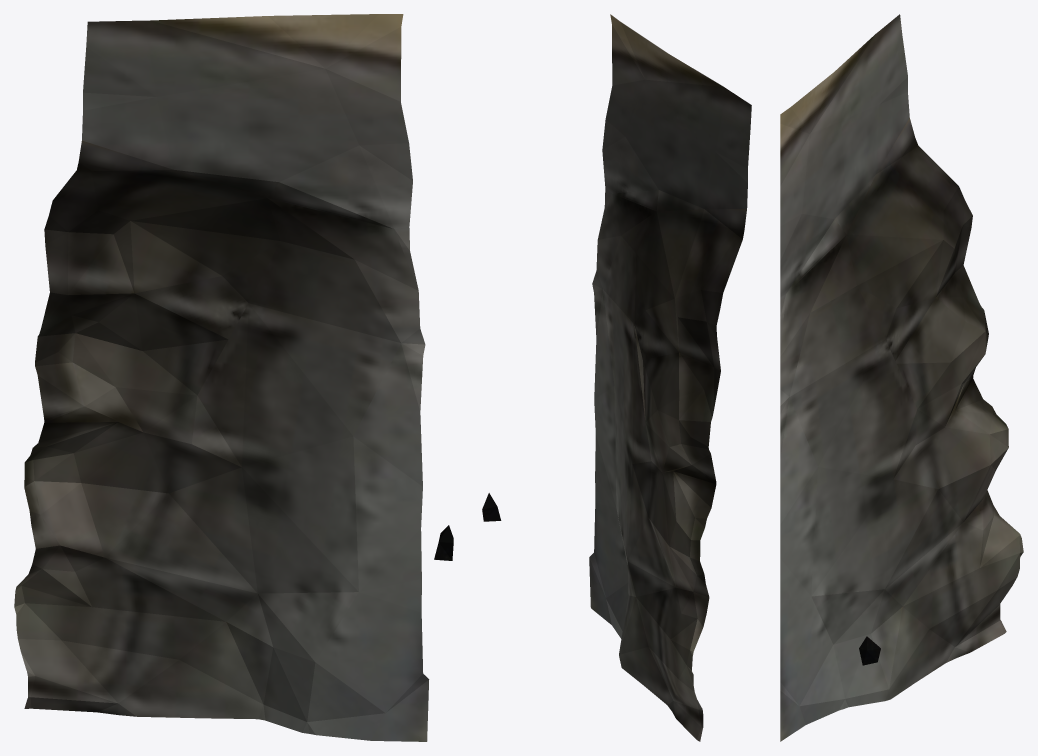
3 views of the same model, side by side, from view 1: azimuth 30°, elevation 25°; view 2: azimuth 150°, elevation 25°; view 3: azimuth 270°, elevation 25° (orthographic). The views are drawn at different scales.
Bounding box in the file's own units: 0.4137 × 0.8374 × 0.2991.
Materials: 1 (1 with a texture image).
